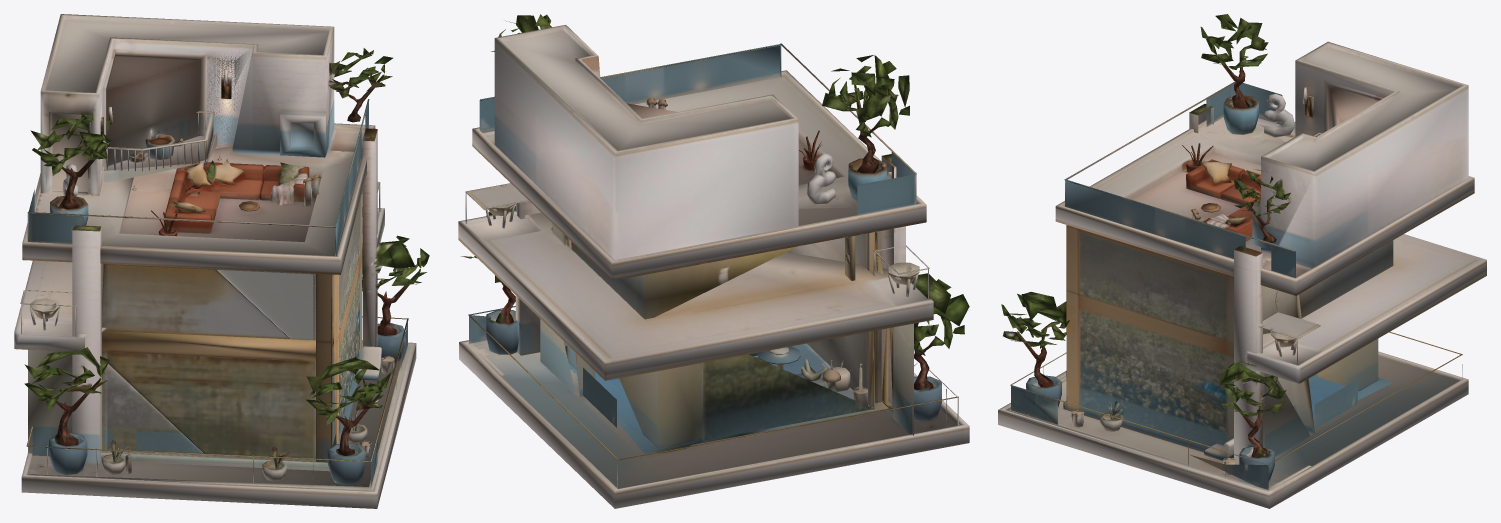
The model's file is tier4-lv17.glb.
The picture shows the model from 3 angles, left to right: view 1: azimuth 30°, elevation 25°; view 2: azimuth 150°, elevation 25°; view 3: azimuth 270°, elevation 25°; orthographic projection. The views are drawn at different scales.
Parts seen in each view (by area): view 1: tripo_node_39cbd4ec-f084-44d6-bb15-7c14f412c540; view 2: tripo_node_39cbd4ec-f084-44d6-bb15-7c14f412c540; view 3: tripo_node_39cbd4ec-f084-44d6-bb15-7c14f412c540.
Part boxes in pixels (x1,y1,x2,y2): tripo_node_39cbd4ec-f084-44d6-bb15-7c14f412c540: [14, 14, 429, 508]; tripo_node_39cbd4ec-f084-44d6-bb15-7c14f412c540: [458, 14, 969, 508]; tripo_node_39cbd4ec-f084-44d6-bb15-7c14f412c540: [998, 14, 1486, 508].
Size of the model in its own units: 1.29 by 0.9941 by 1.34.
Materials: 1 (1 with a texture image).
